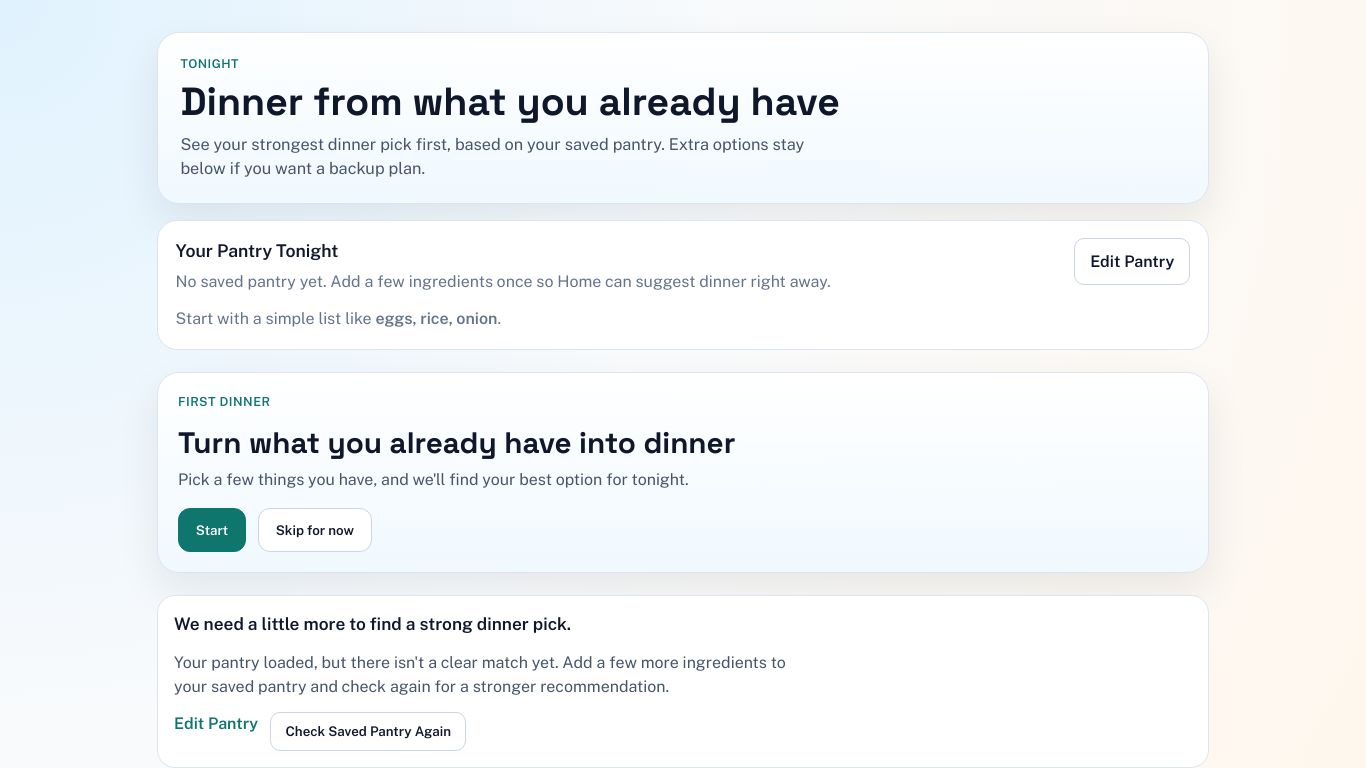
it: Home onboarding › lets the user skip onboarding without breaking the empty-pantry fallback
Click the button "Skip for now" at (315, 530), box x1=258 y1=508 x2=372 y2=552
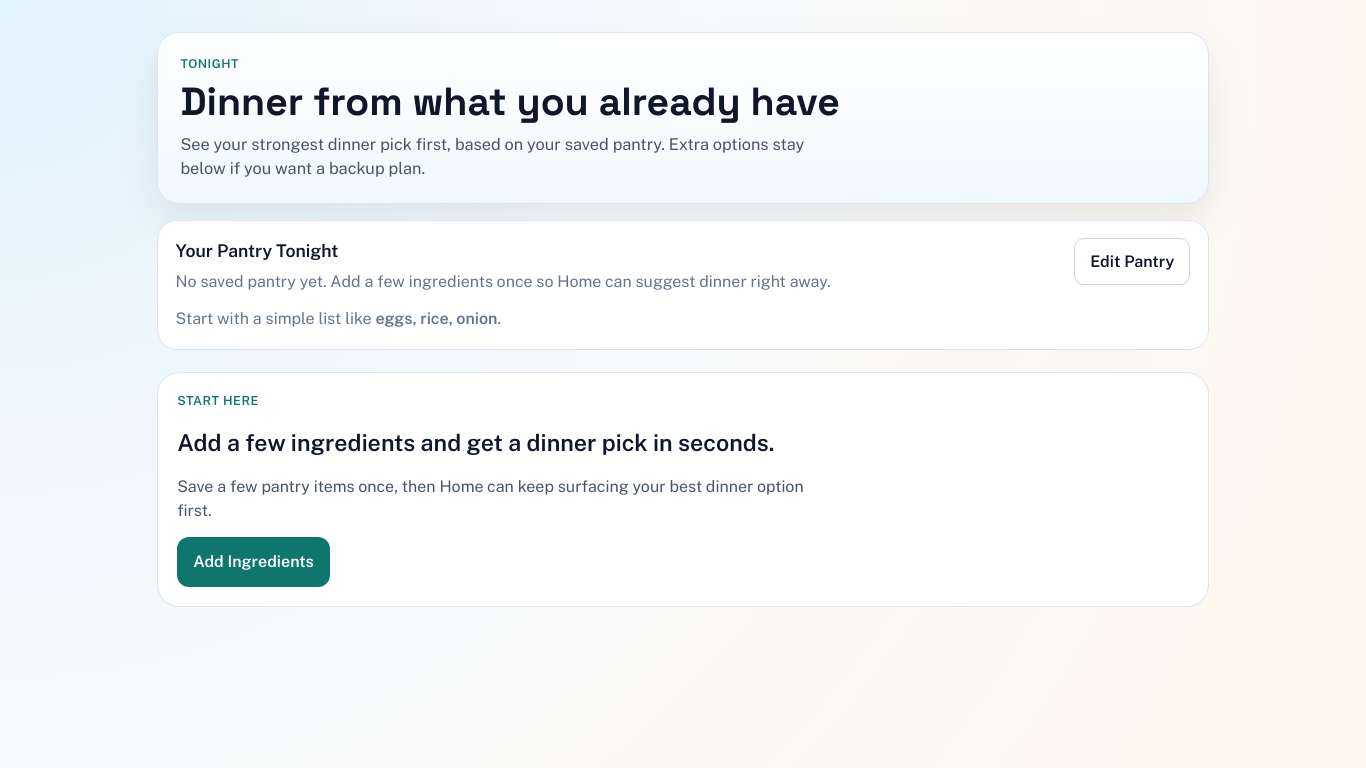
Now the text "Add a few ingredients and get a dinner pick in seconds." is shown, box x1=177 y1=428 x2=774 y2=456
Now the text "Turn what you already have into dinner" is gone
